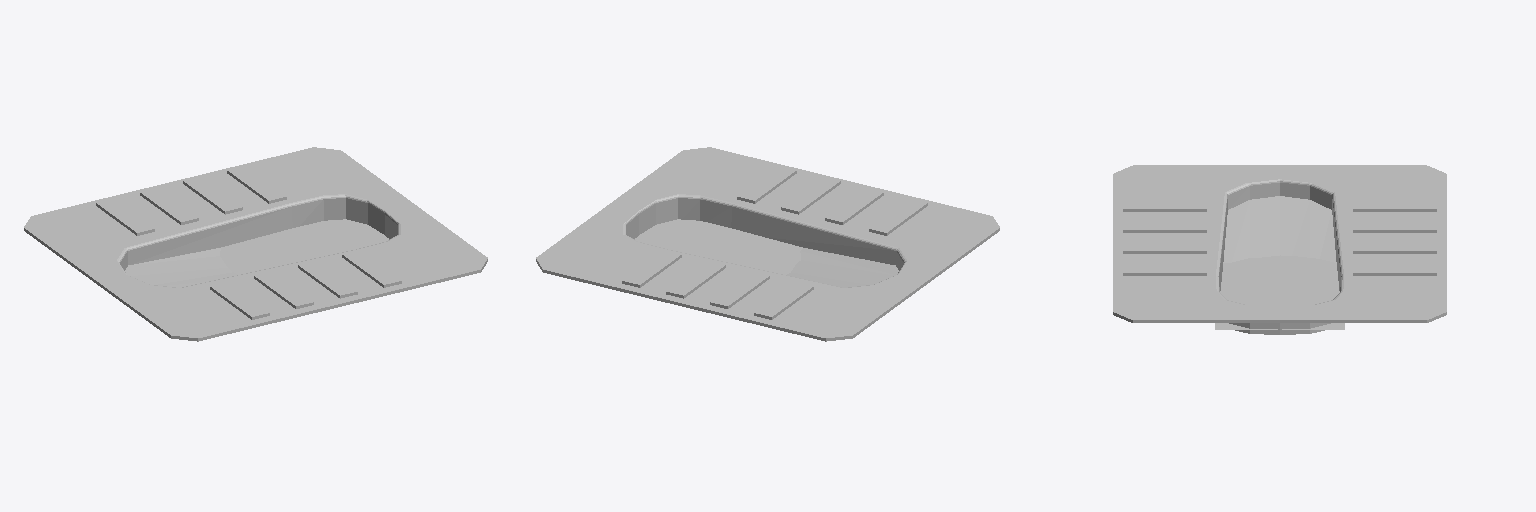
The model's file is hor1 toilet2 bowl2.obj.
3 renders of one model, left to right at view 1: azimuth 30°, elevation 25°; view 2: azimuth 150°, elevation 25°; view 3: azimuth 270°, elevation 25°, orthographic.
Visible parts, largest first — view 1: toilet_2_bowl_Plane.034; view 2: toilet_2_bowl_Plane.034; view 3: toilet_2_bowl_Plane.034.
Boxes of the visible parts, x1=… form: toilet_2_bowl_Plane.034: x1=24, y1=147, x2=487, y2=341; toilet_2_bowl_Plane.034: x1=536, y1=147, x2=999, y2=341; toilet_2_bowl_Plane.034: x1=1113, y1=165, x2=1446, y2=334.
Bounding box in the file's own units: 1.08 × 0.105 × 0.9887.